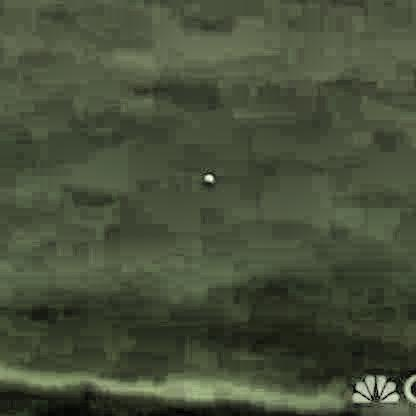golfball: (200, 173, 213, 183)
